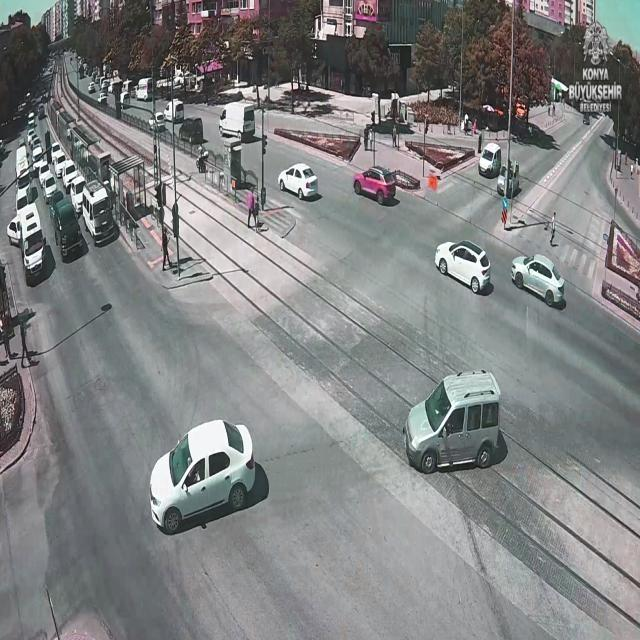Bus: (80, 183, 118, 246), (11, 144, 33, 196)
Car: (147, 416, 263, 530), (400, 363, 520, 472), (503, 244, 571, 314), (425, 237, 496, 297), (346, 160, 399, 208), (274, 163, 334, 203), (52, 202, 85, 256), (168, 118, 209, 146), (495, 158, 525, 194), (68, 178, 89, 210), (63, 160, 84, 189), (139, 114, 161, 138), (5, 213, 21, 244), (41, 176, 60, 202), (56, 151, 71, 175), (114, 91, 132, 109), (47, 141, 63, 157), (92, 90, 110, 104), (28, 133, 42, 150), (38, 165, 51, 183), (32, 148, 46, 163), (83, 79, 97, 93), (23, 130, 39, 142), (38, 105, 44, 118)
Truck: (14, 201, 47, 275), (216, 95, 262, 138)
Van: (473, 140, 506, 178), (154, 100, 189, 119)
